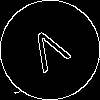V: (25, 25, 77, 82)
